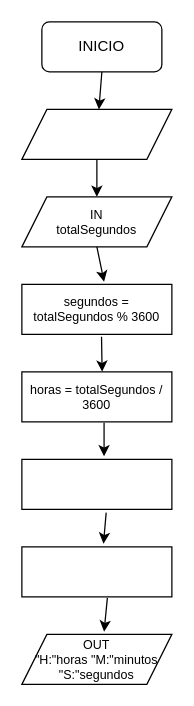
This 194x706 diagram has some shape labels left out. The centre of each missing label's shape, as x and y in pixels:
minutos = segundos / 60: [96,483]
OUT "Introduzca segundos": [96,133]
segundos = segundos % 60: [96,571]
